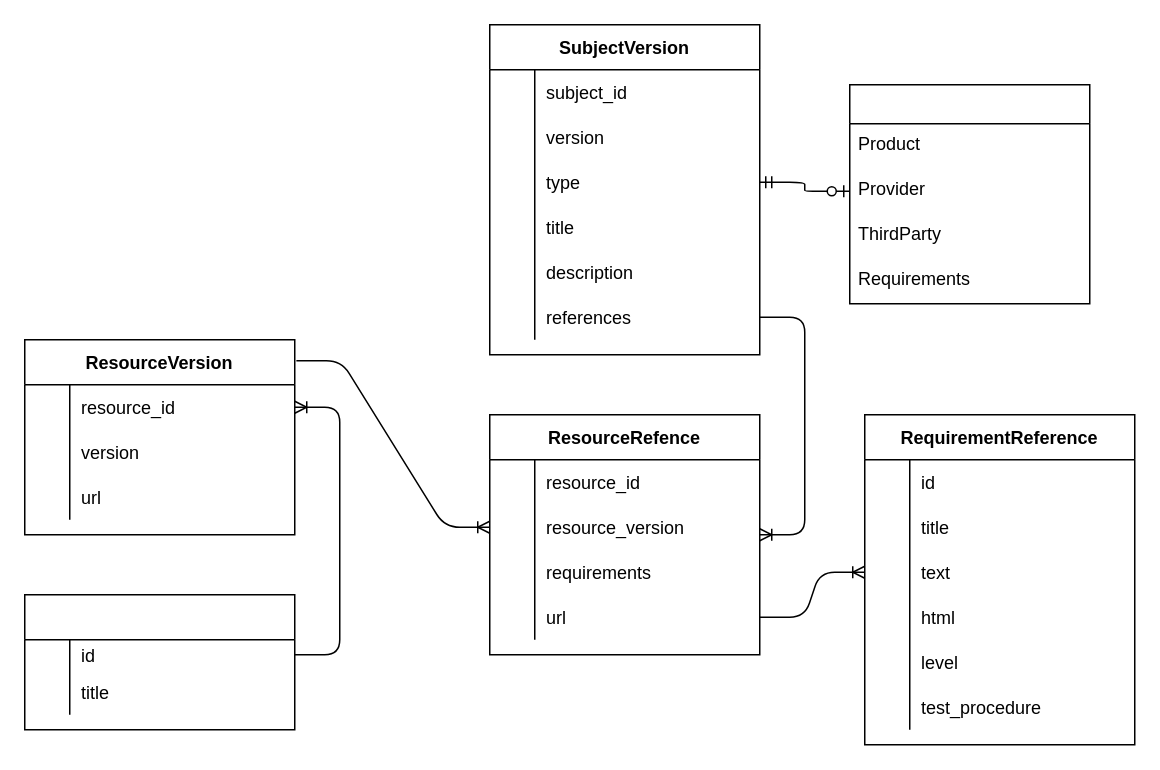
The diagram is 1160 pixels wide and 770 high, and some of its shapes have lost their labels. The box of each missing label's shape, as (x1, y1, x2, y2) in pixels:
Resource: (23, 593, 295, 730)
SubjectType: (848, 83, 1090, 304)
